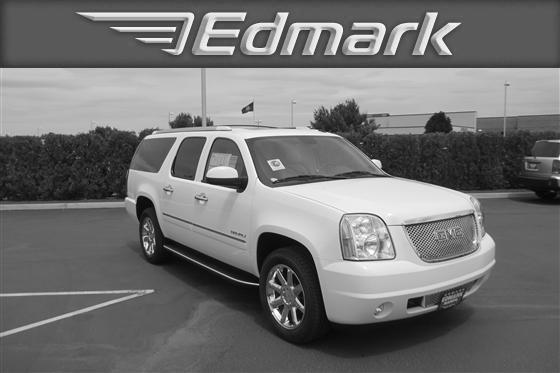car: (125, 129, 499, 348)
